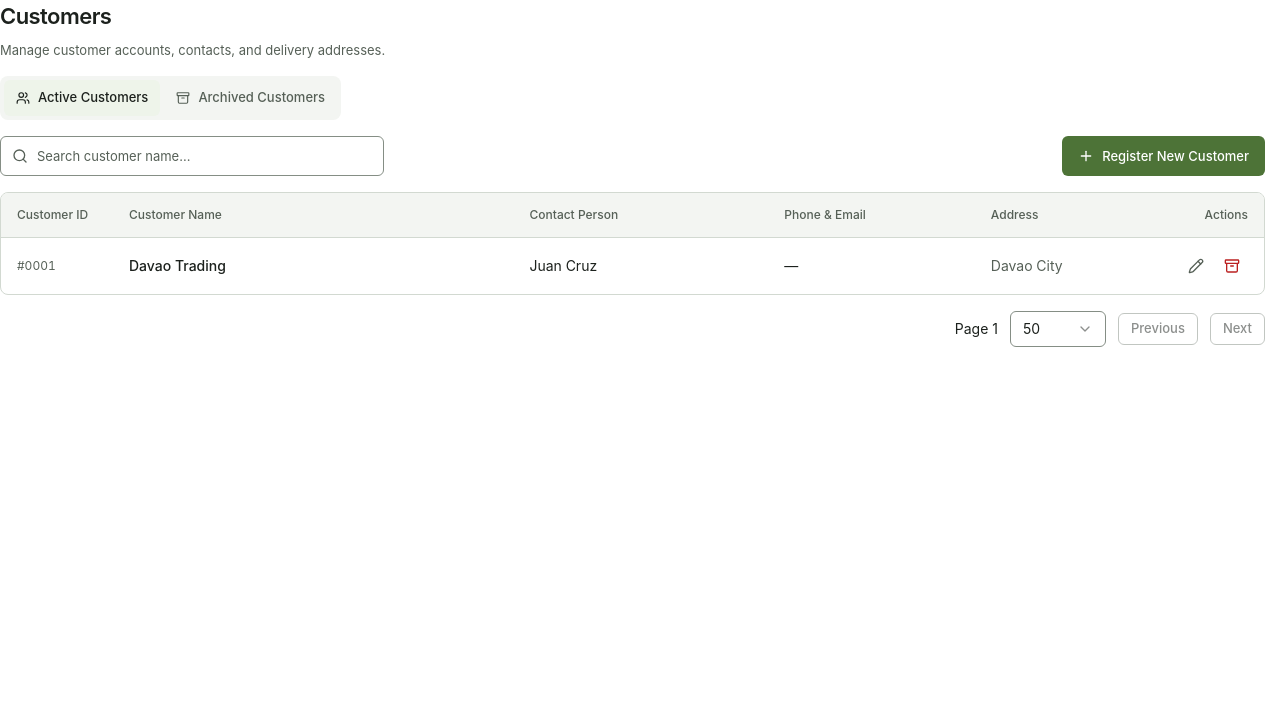
Test case: keeps archive confirmation open with recoverable error feedback when the request fails
Expected: the text "Davao Trading" is shown, [129,257,226,274]
Click the button named "Archive": x=1232, y=266 [1216,250,1248,282]
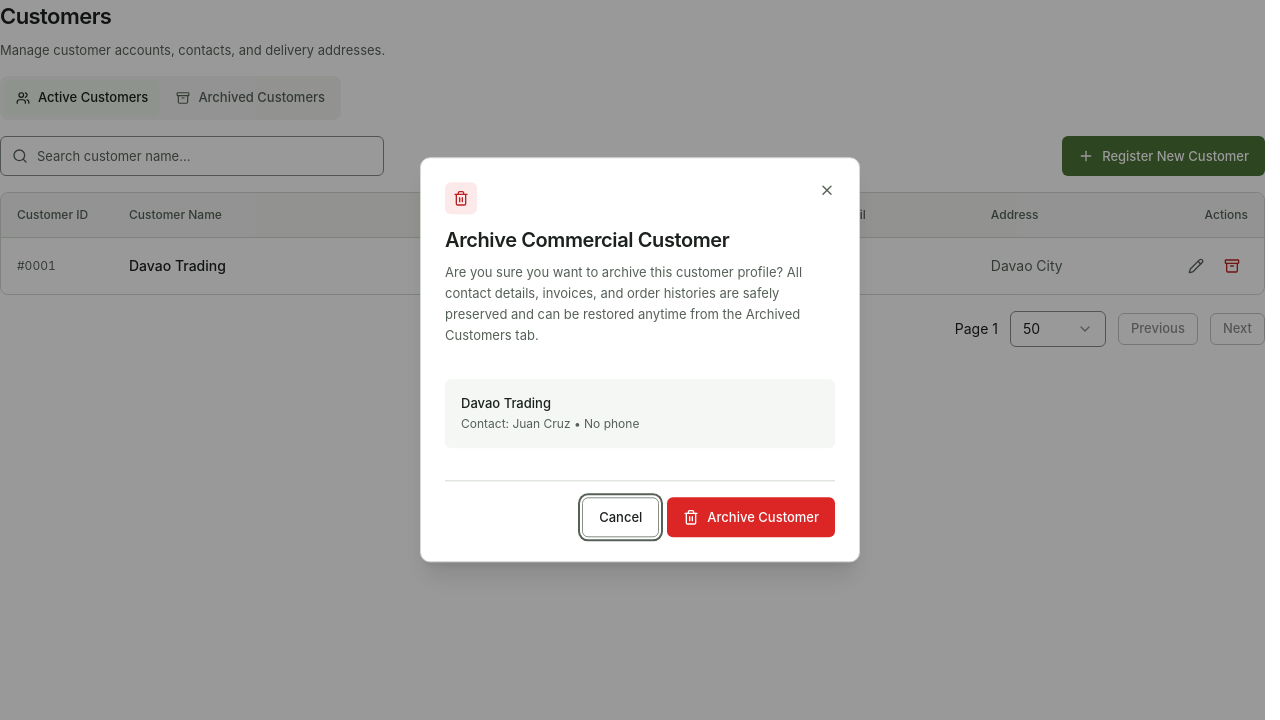
Click the button "Archive Customer": x=751, y=518 [667,498,835,538]
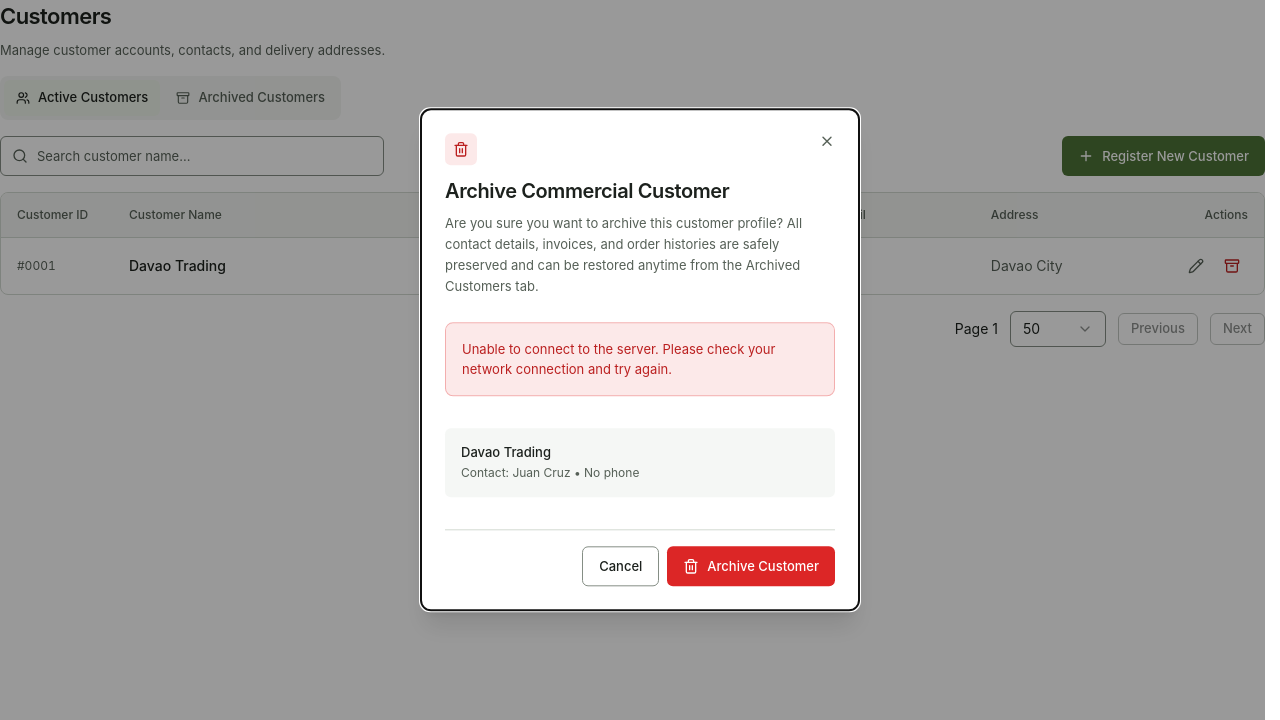
Now the message shows "Unable to connect", box [462,341,775,377]
